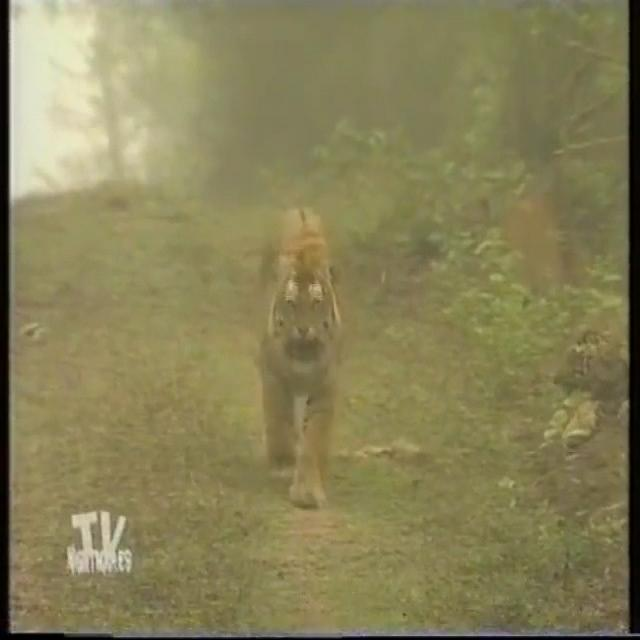TIGER: (247, 193, 355, 519)
